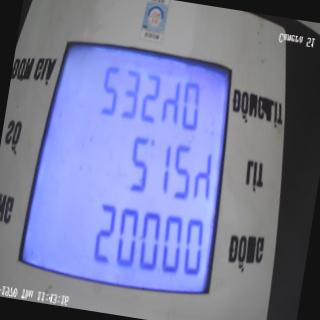screen: (10, 26, 252, 318)
